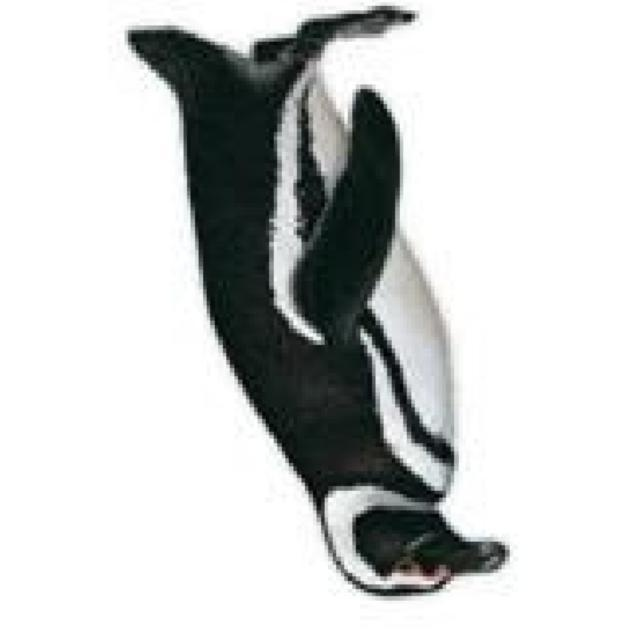penguin: (126, 8, 511, 599)
